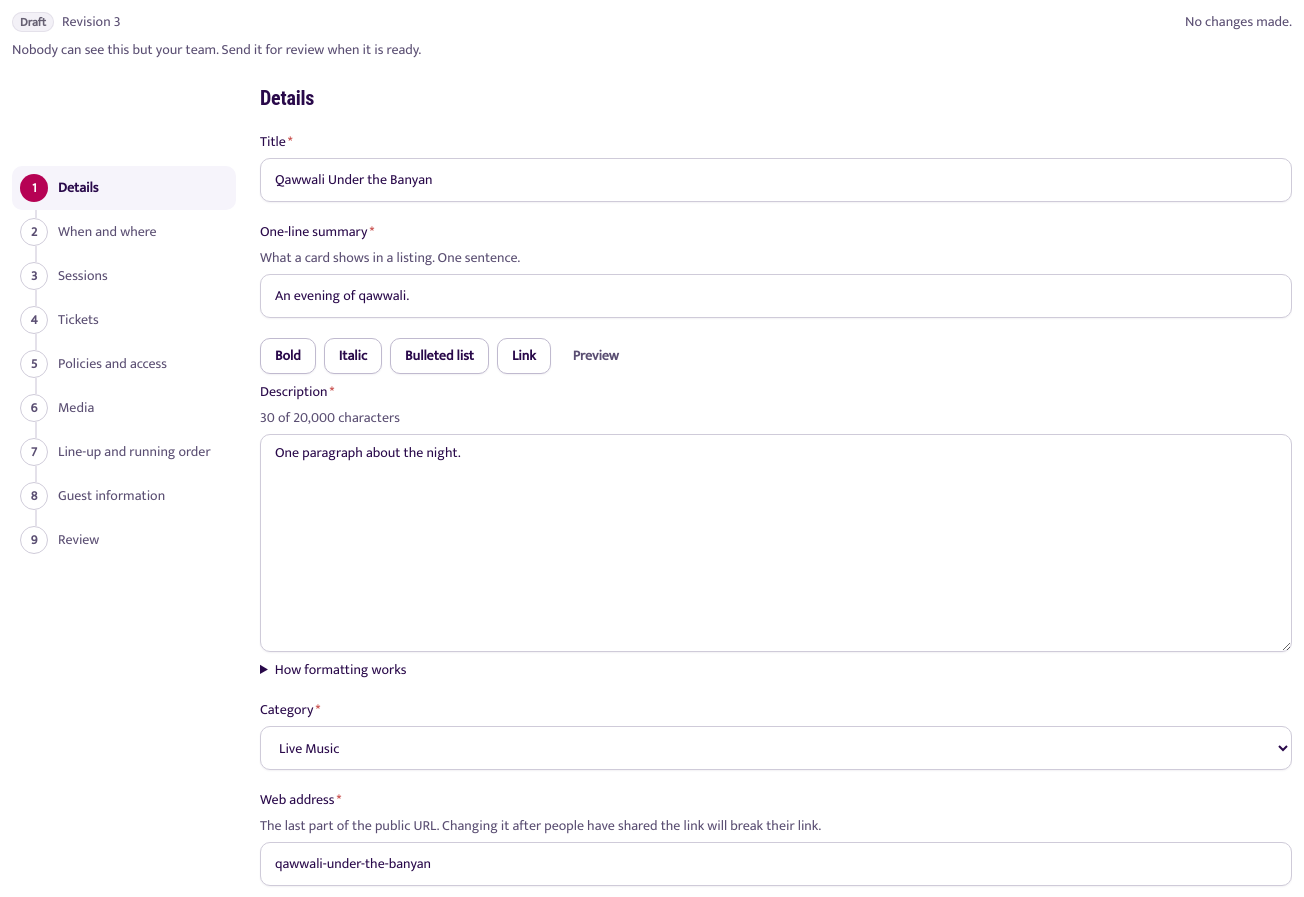
when somebody else has saved first › replaces everything when the organiser chooses their version
Type "!" into the field labelled "Title*" at (776, 180), box [260,158,1292,202]
Wait 2000 ms
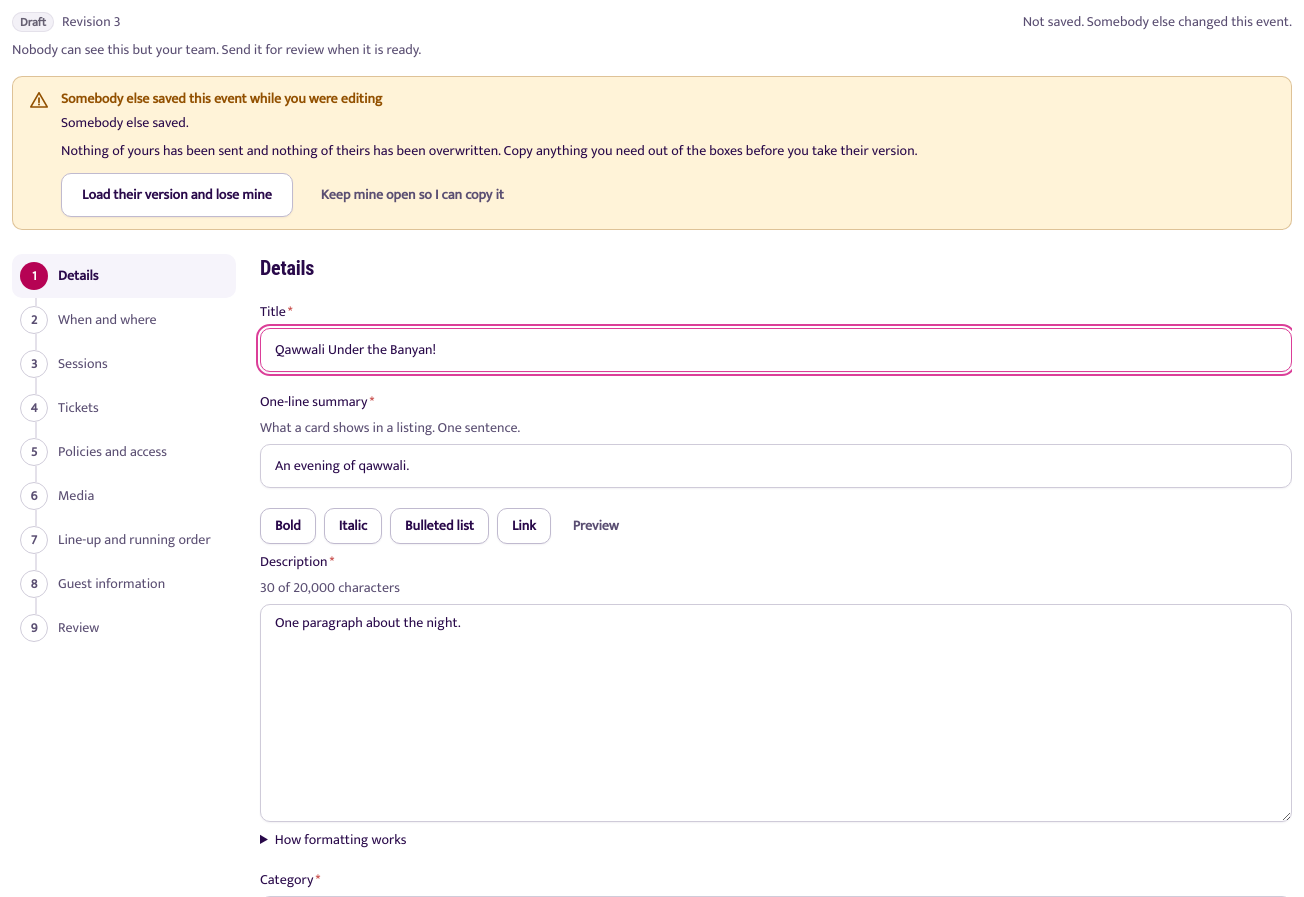
Click the button "Load their version and lose mine" at (177, 195), box [61,173,293,217]
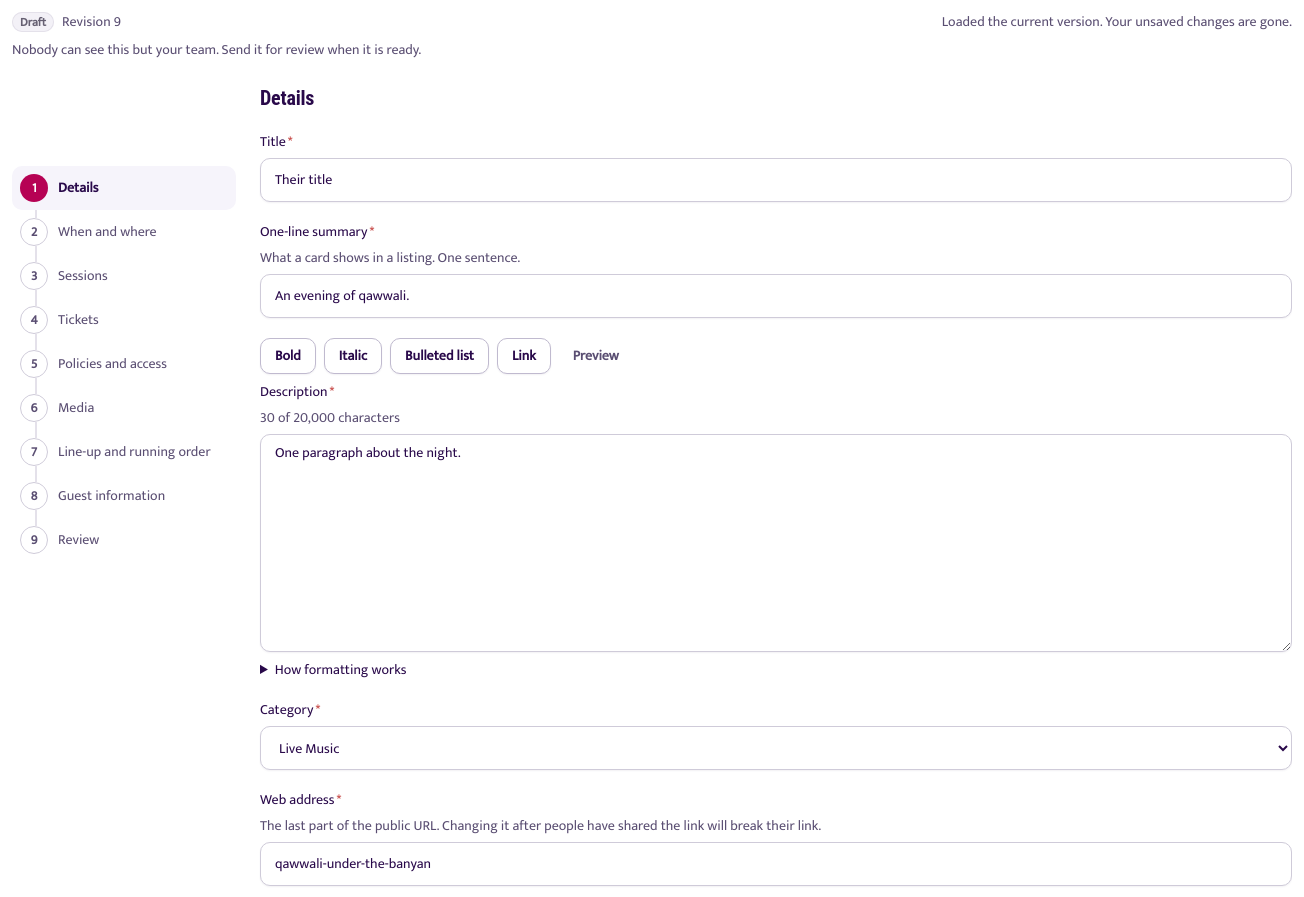
Check: the field labelled "Title*" holds "Their title", box [260,158,1292,202]
Check: the text "Revision 9" is shown, box [62,12,121,32]
